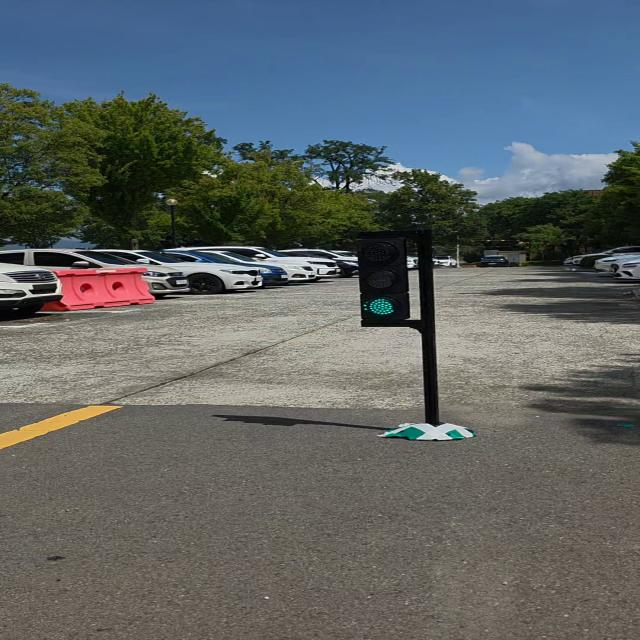green: (356, 228, 414, 326)
